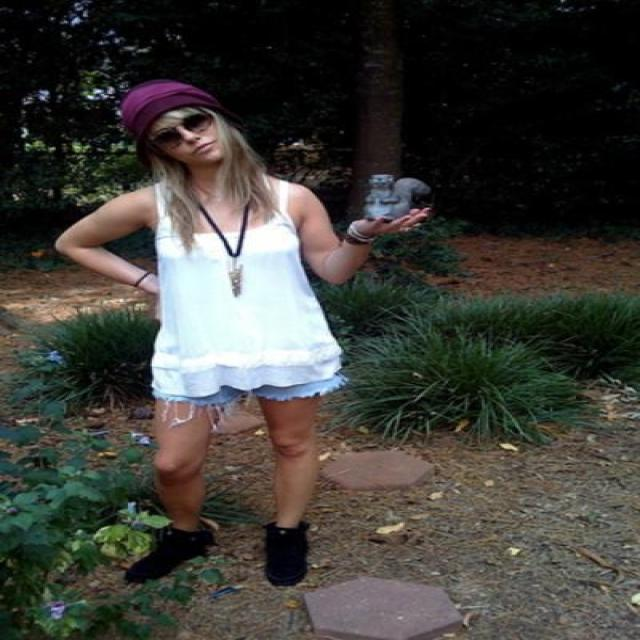hat: (115, 80, 210, 135)
shirt: (150, 175, 348, 412)
shoe: (122, 524, 308, 586)
sunglass: (155, 95, 227, 140)
